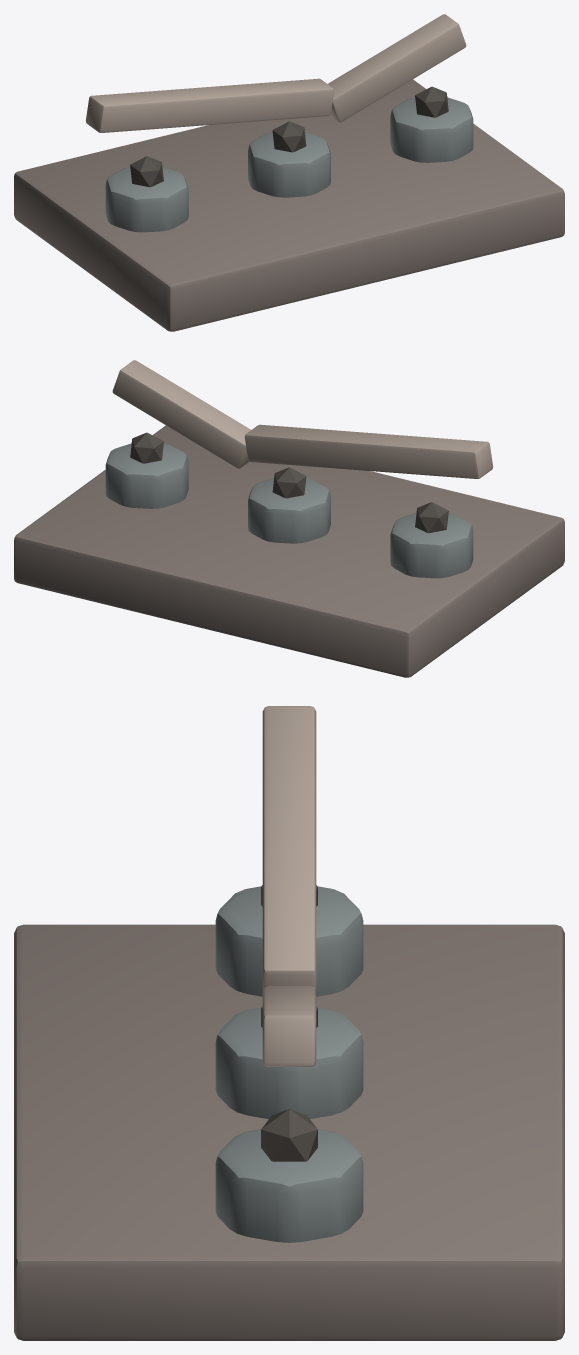
The model's file is building_threefold_loom_foundation_v1.glb.
3 views of the same model, one above another, from view 1: azimuth 30°, elevation 25°; view 2: azimuth 150°, elevation 25°; view 3: azimuth 270°, elevation 25° (orthographic). The views are drawn at different scales.
Parts seen in each view (by area): view 1: LoomPlinth, LoomBrokenBeamA, LoomBrokenBeamB, LoomSocket_-0.86, LoomSocket_0.86, LoomSocket_0.0, LoomDormantEmber_0.0, LoomDormantEmber_0.86, LoomDormantEmber_-0.86; view 2: LoomPlinth, LoomBrokenBeamA, LoomBrokenBeamB, LoomSocket_-0.86, LoomSocket_0.86, LoomSocket_0.0, LoomDormantEmber_0.0, LoomDormantEmber_0.86, LoomDormantEmber_-0.86; view 3: LoomPlinth, LoomBrokenBeamA, LoomSocket_0.86, LoomSocket_0.0, LoomSocket_-0.86, LoomBrokenBeamB, LoomDormantEmber_0.86.
Part boxes in pixels (x1,y1,x2,y2): LoomPlinth: (14,79,564,331); LoomBrokenBeamA: (85,78,334,132); LoomBrokenBeamB: (328,14,466,122); LoomSocket_-0.86: (105,167,188,232); LoomSocket_0.86: (390,97,473,162); LoomSocket_0.0: (248,132,330,197); LoomDormantEmber_0.0: (272,121,306,152); LoomDormantEmber_0.86: (415,86,448,117); LoomDormantEmber_-0.86: (130,156,163,187); LoomPlinth: (14,425,564,677); LoomBrokenBeamA: (244,424,493,478); LoomBrokenBeamB: (112,360,250,468); LoomSocket_-0.86: (390,513,473,578); LoomSocket_0.86: (105,443,188,508); LoomSocket_0.0: (248,478,330,543); LoomDormantEmber_0.0: (272,467,306,498); LoomDormantEmber_0.86: (130,432,163,463); LoomDormantEmber_-0.86: (415,502,448,533); LoomPlinth: (14,924,564,1340); LoomBrokenBeamA: (262,706,316,990); LoomSocket_0.86: (215,1129,363,1242); LoomSocket_0.0: (215,1007,363,1119); LoomSocket_-0.86: (215,886,363,996); LoomBrokenBeamB: (262,986,316,1066); LoomDormantEmber_0.86: (261,1109,317,1161).
Bounding box in the file's own units: 2.4 × 1.01 × 1.65.
